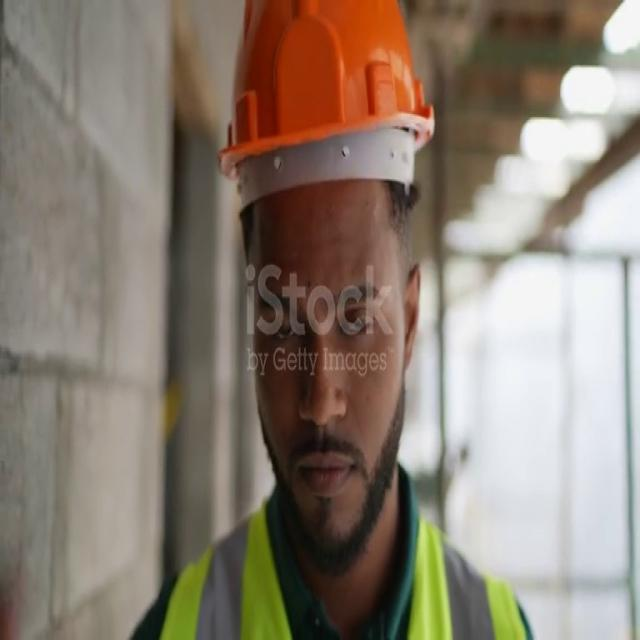capacete: (206, 3, 443, 238)
